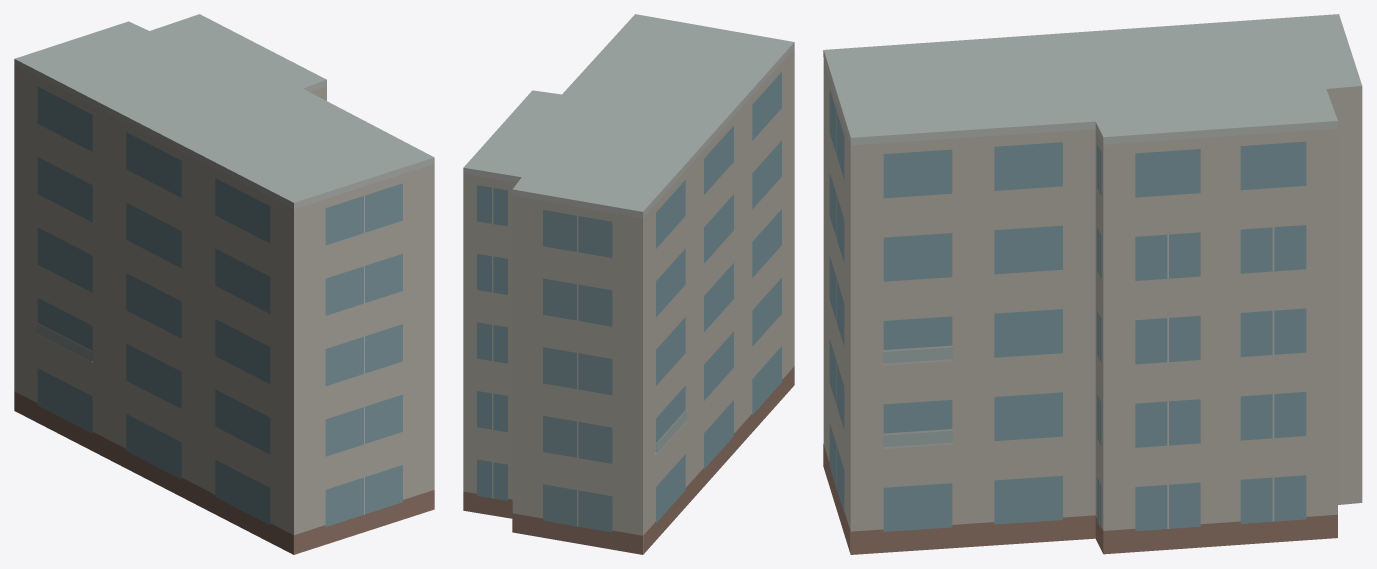
The model's file is survey-upis-33001451.glb.
3 renders of one model, left to right at view 1: azimuth 30°, elevation 25°; view 2: azimuth 150°, elevation 25°; view 3: azimuth 270°, elevation 25°, orthographic. The views are drawn at different scales.
Parts seen in each view (by area): view 1: survey-upis-33001451.tmp; view 2: survey-upis-33001451.tmp; view 3: survey-upis-33001451.tmp.
Boxes of the visible parts, x1,y1,x2,y2 form: survey-upis-33001451.tmp: (14,14,434,554); survey-upis-33001451.tmp: (463,14,794,554); survey-upis-33001451.tmp: (823,14,1362,554).
Size of the model in its own units: 8.54 by 13.4 by 15.7.
